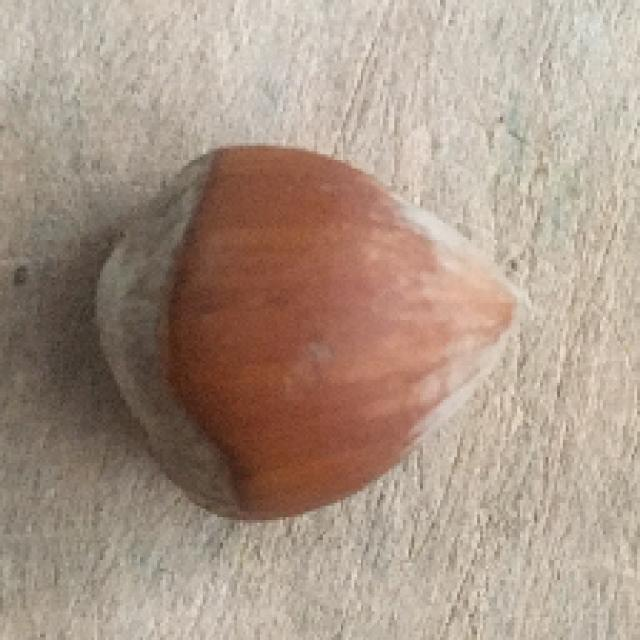qualityHazelnut: (98, 143, 524, 522)
